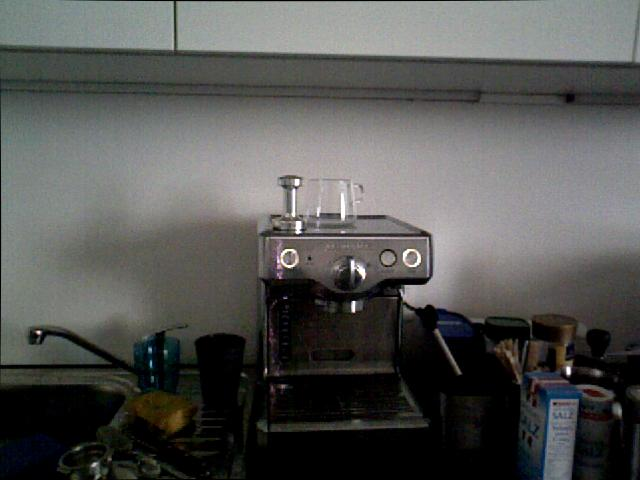couch: (0, 381, 128, 479)
handbag: (194, 332, 246, 410), (302, 176, 360, 228), (133, 337, 179, 391)
